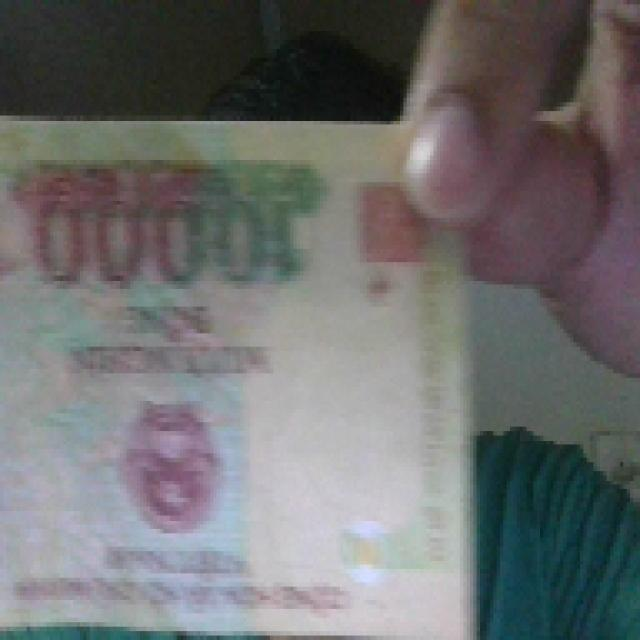10 000 VND: (0, 107, 477, 636)
